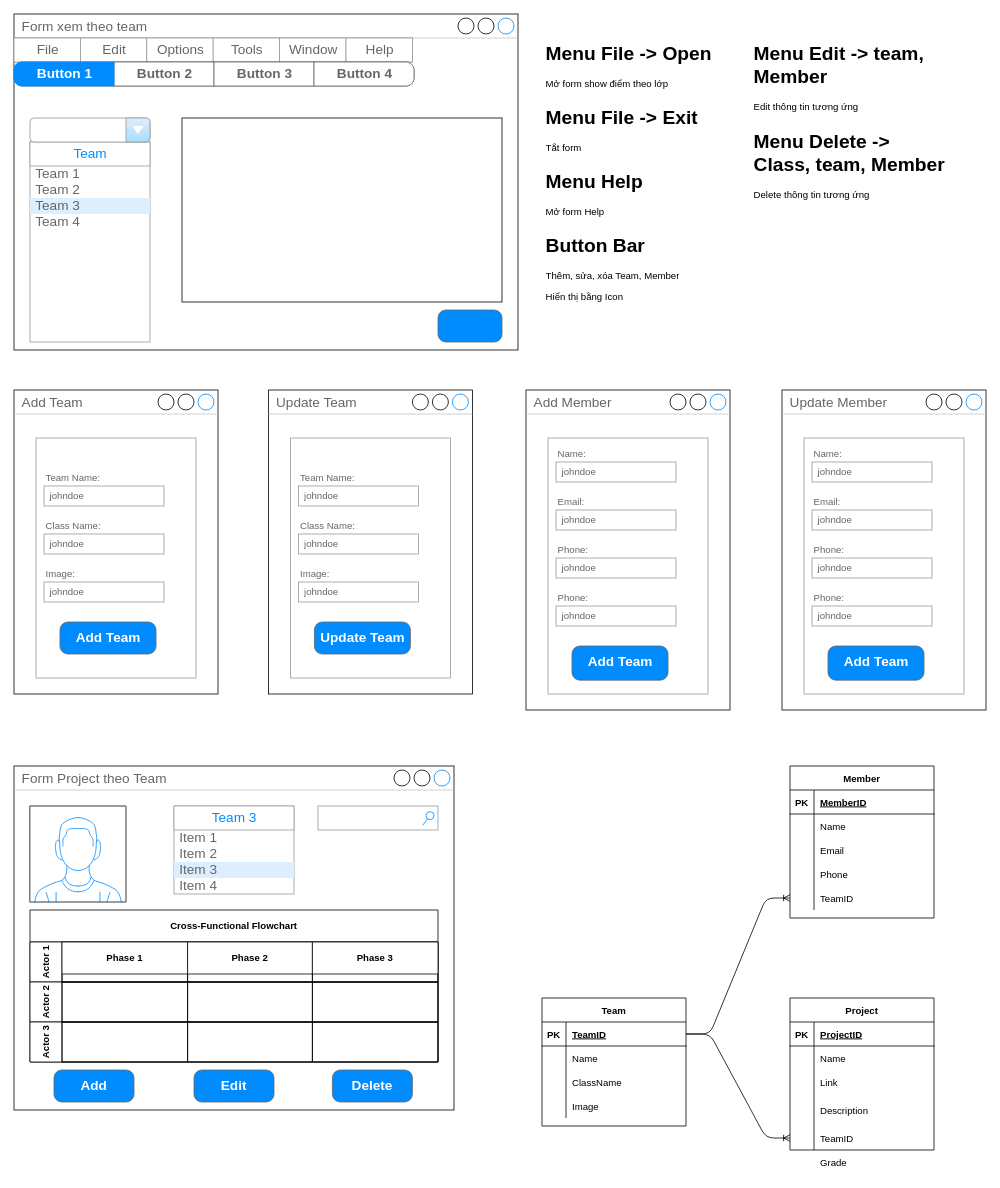
Image size: 1000x1188. Some labels were removed from this diagram. The centre of each missing label's shape, as x and y in pixels:
Header 1 Header 2 row 1, cell 1 row 1, cell 2 row 2, cell 1 row 2, cell 2: the point at 341,209
List All: the point at 469,325
SE1402: the point at 89,129
Search: the point at 377,817
